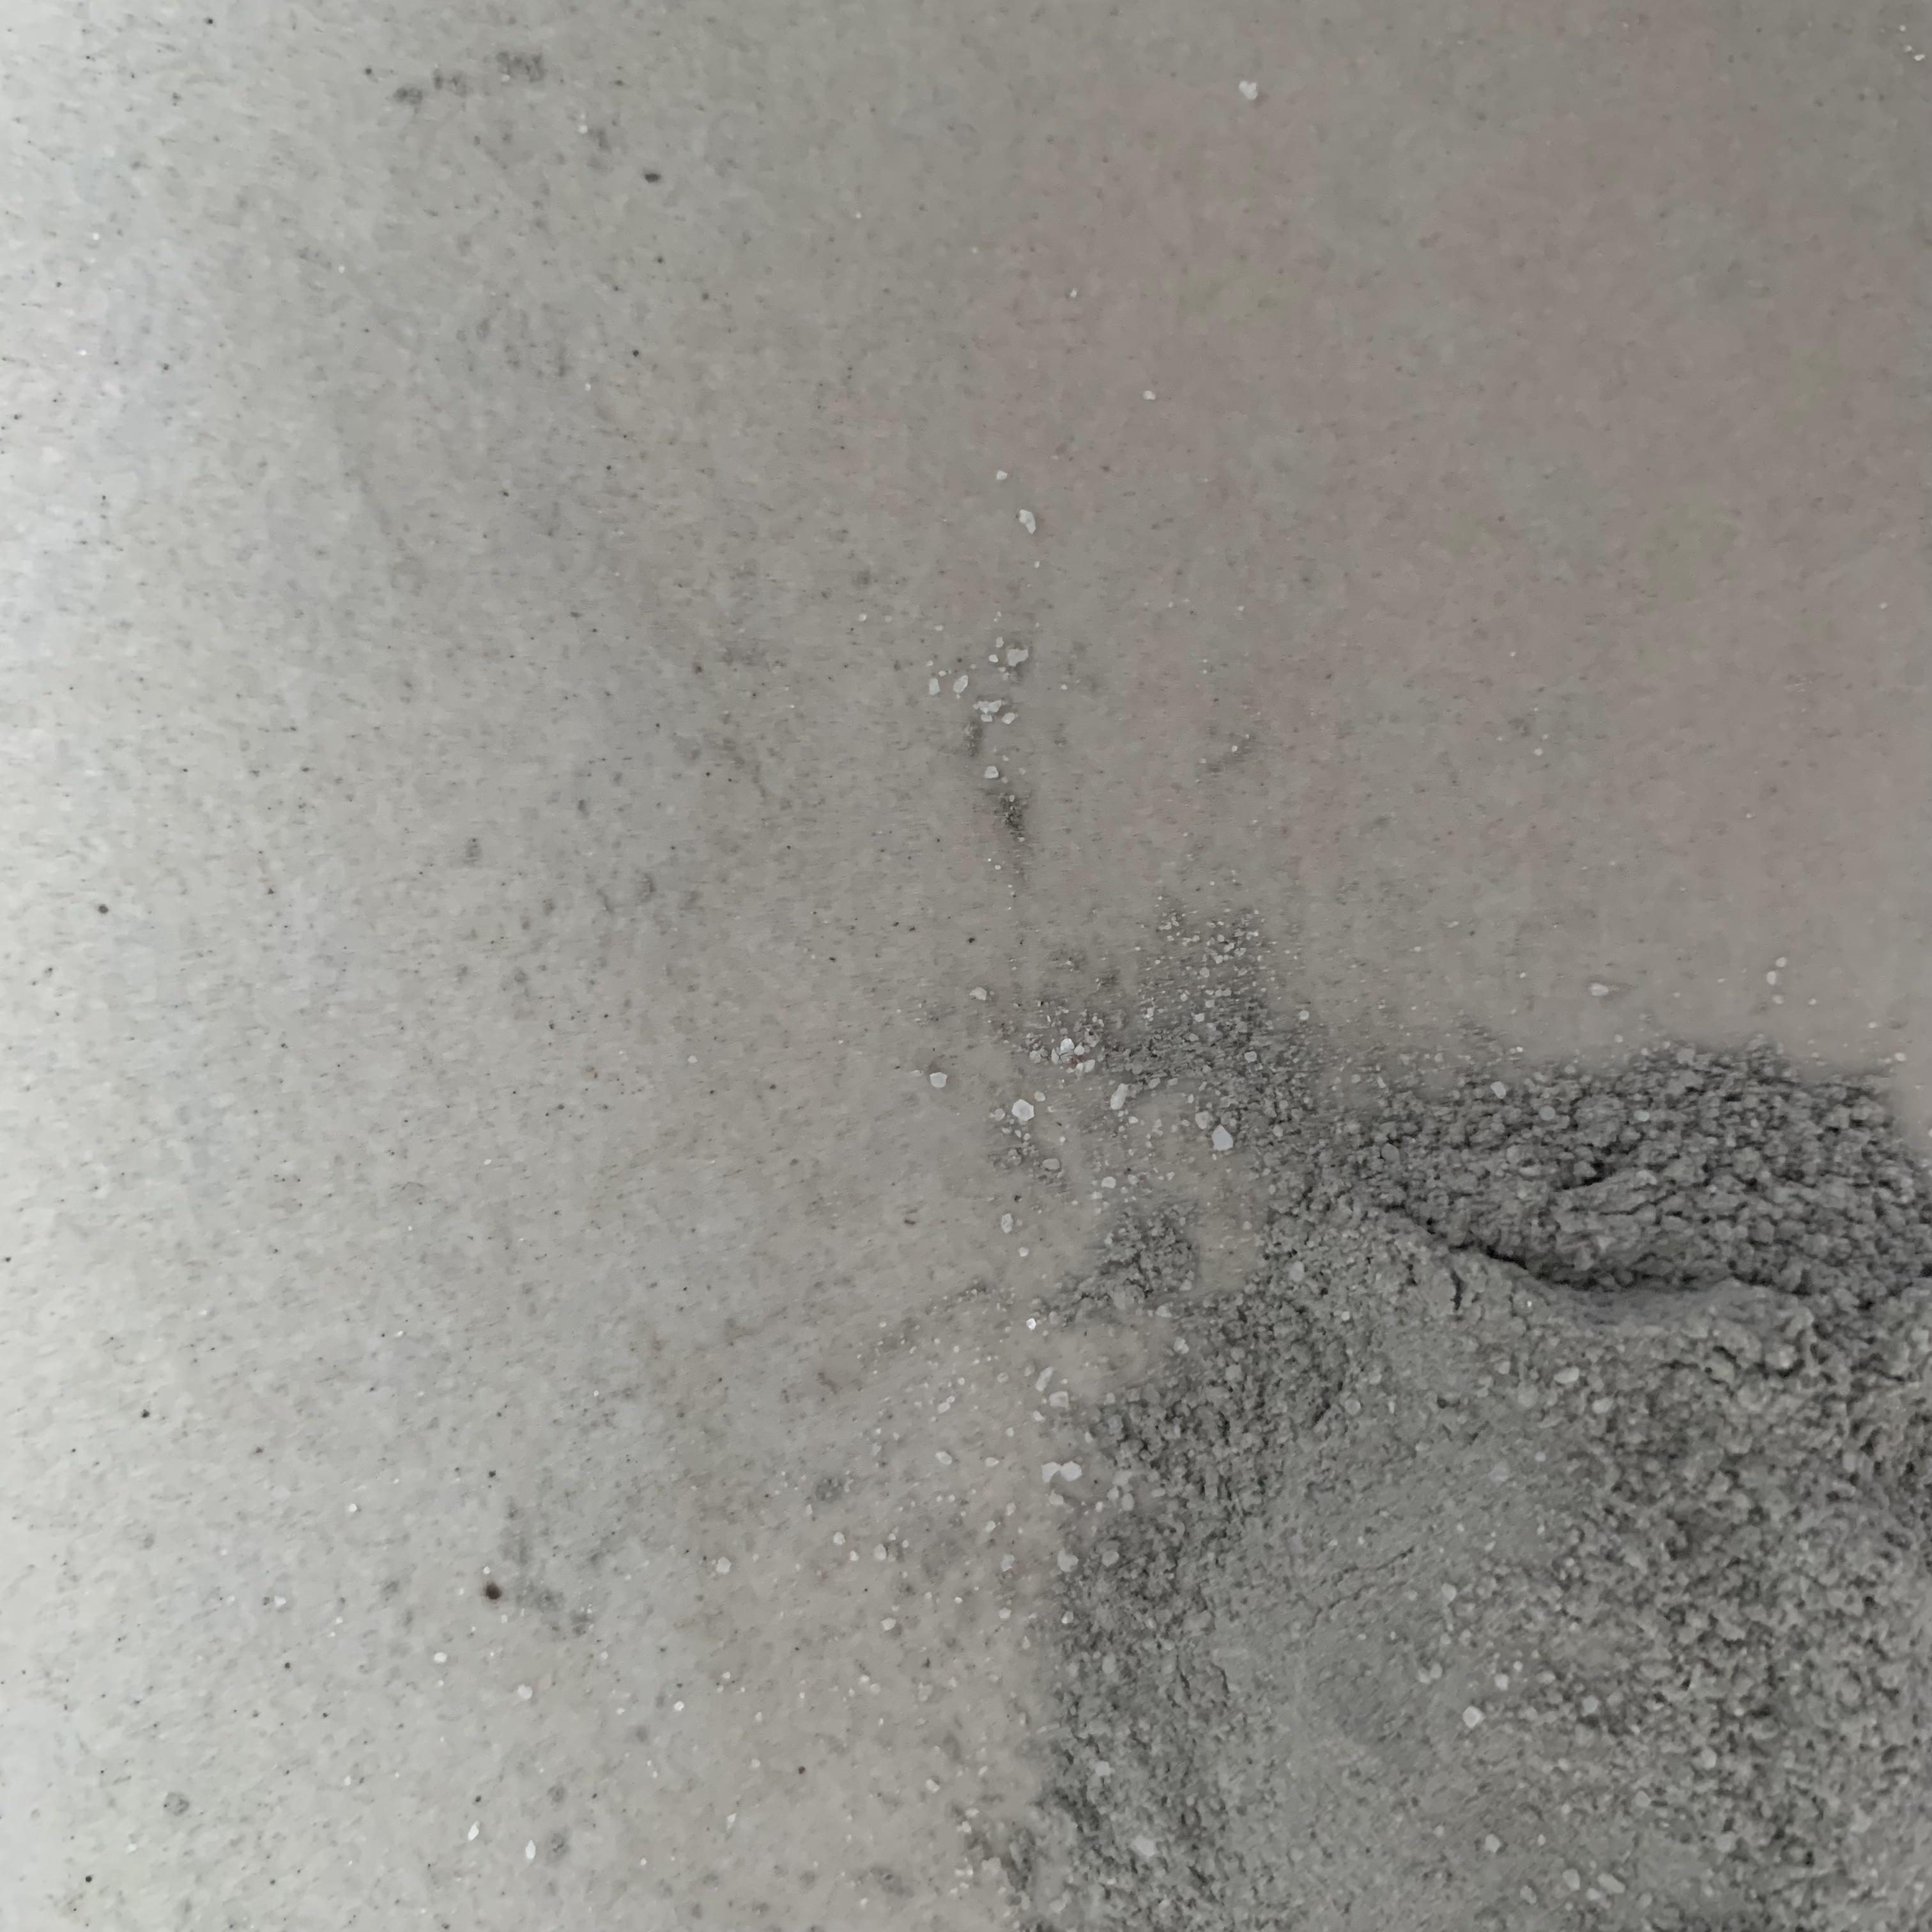ash pile: (860, 922, 1932, 1932)
